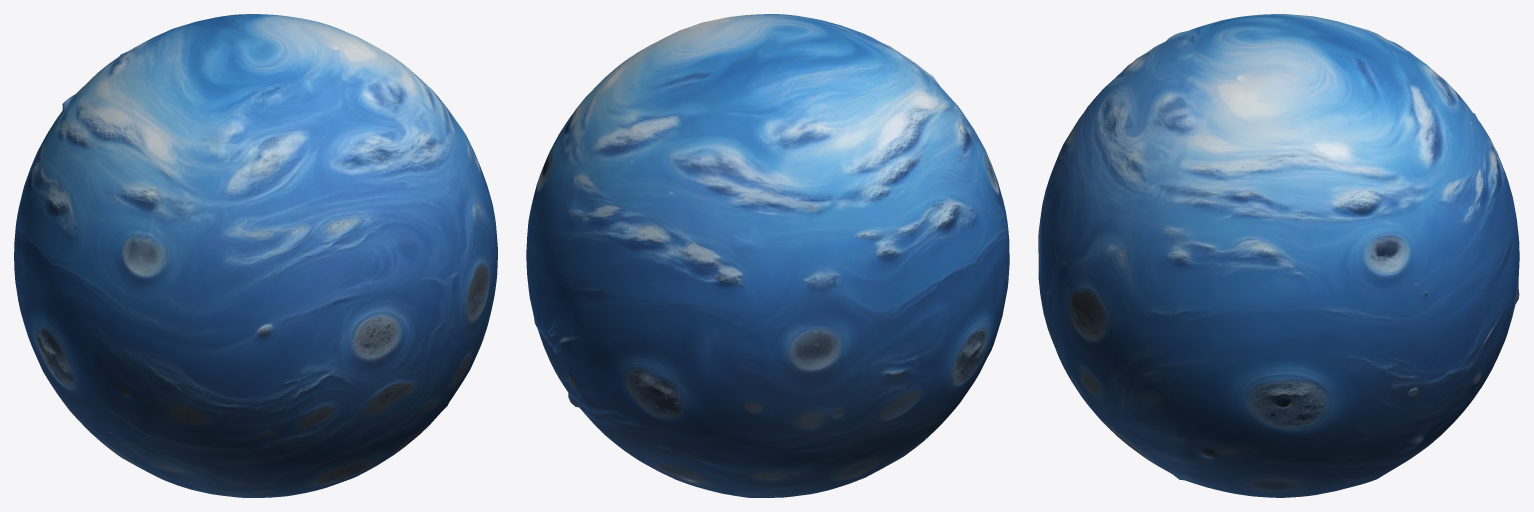
Rendered from water_planet_5.glb.
3 renders of one model, left to right at view 1: azimuth 30°, elevation 25°; view 2: azimuth 150°, elevation 25°; view 3: azimuth 270°, elevation 25°, orthographic.
Parts seen in each view (by area): view 1: Mesh_0.048; view 2: Mesh_0.048; view 3: Mesh_0.048.
Part boxes in pixels (left/top/right/bottom): Mesh_0.048: left=14, top=14, right=497, bottom=497; Mesh_0.048: left=526, top=14, right=1009, bottom=497; Mesh_0.048: left=1038, top=14, right=1519, bottom=497.
Bounding box in the file's own units: 2 × 2 × 1.99.
1 material, 1 textured.
